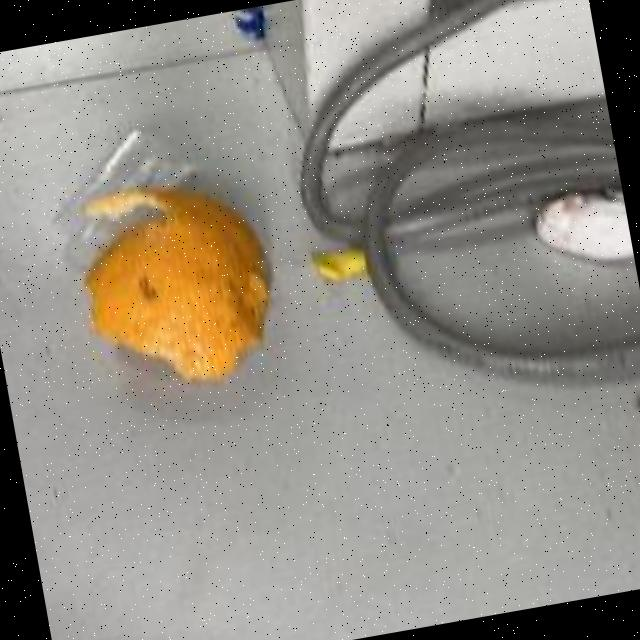orange-peel: (65, 164, 288, 402)
